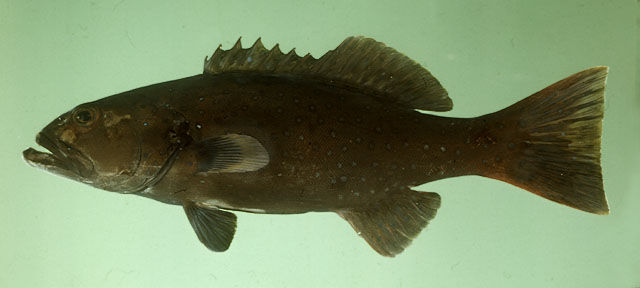fish: (22, 33, 611, 258)
